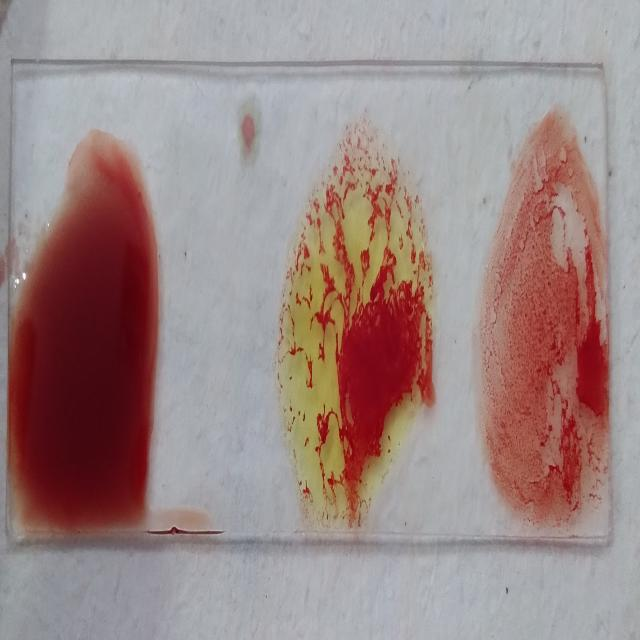B: (287, 138, 433, 533)
D: (478, 127, 610, 540)
